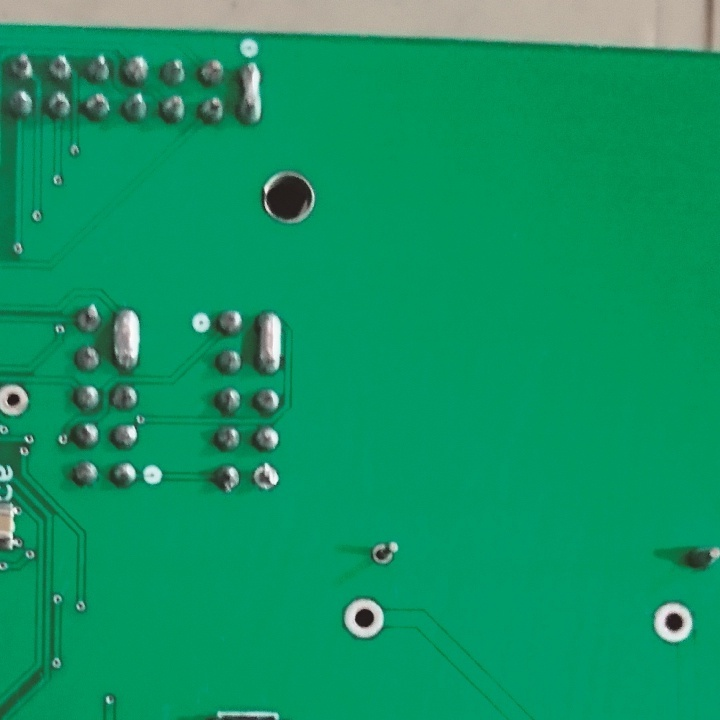F: (340, 596, 390, 641), (653, 601, 693, 646), (1, 382, 34, 418), (251, 460, 282, 493), (370, 536, 401, 568)
P: (108, 303, 144, 372), (253, 306, 290, 373), (235, 58, 268, 127)
